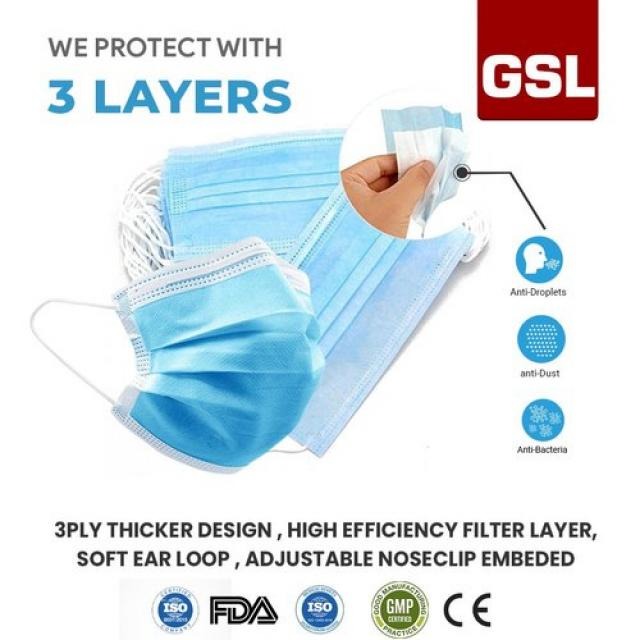non-organic waste: (23, 243, 335, 476)
